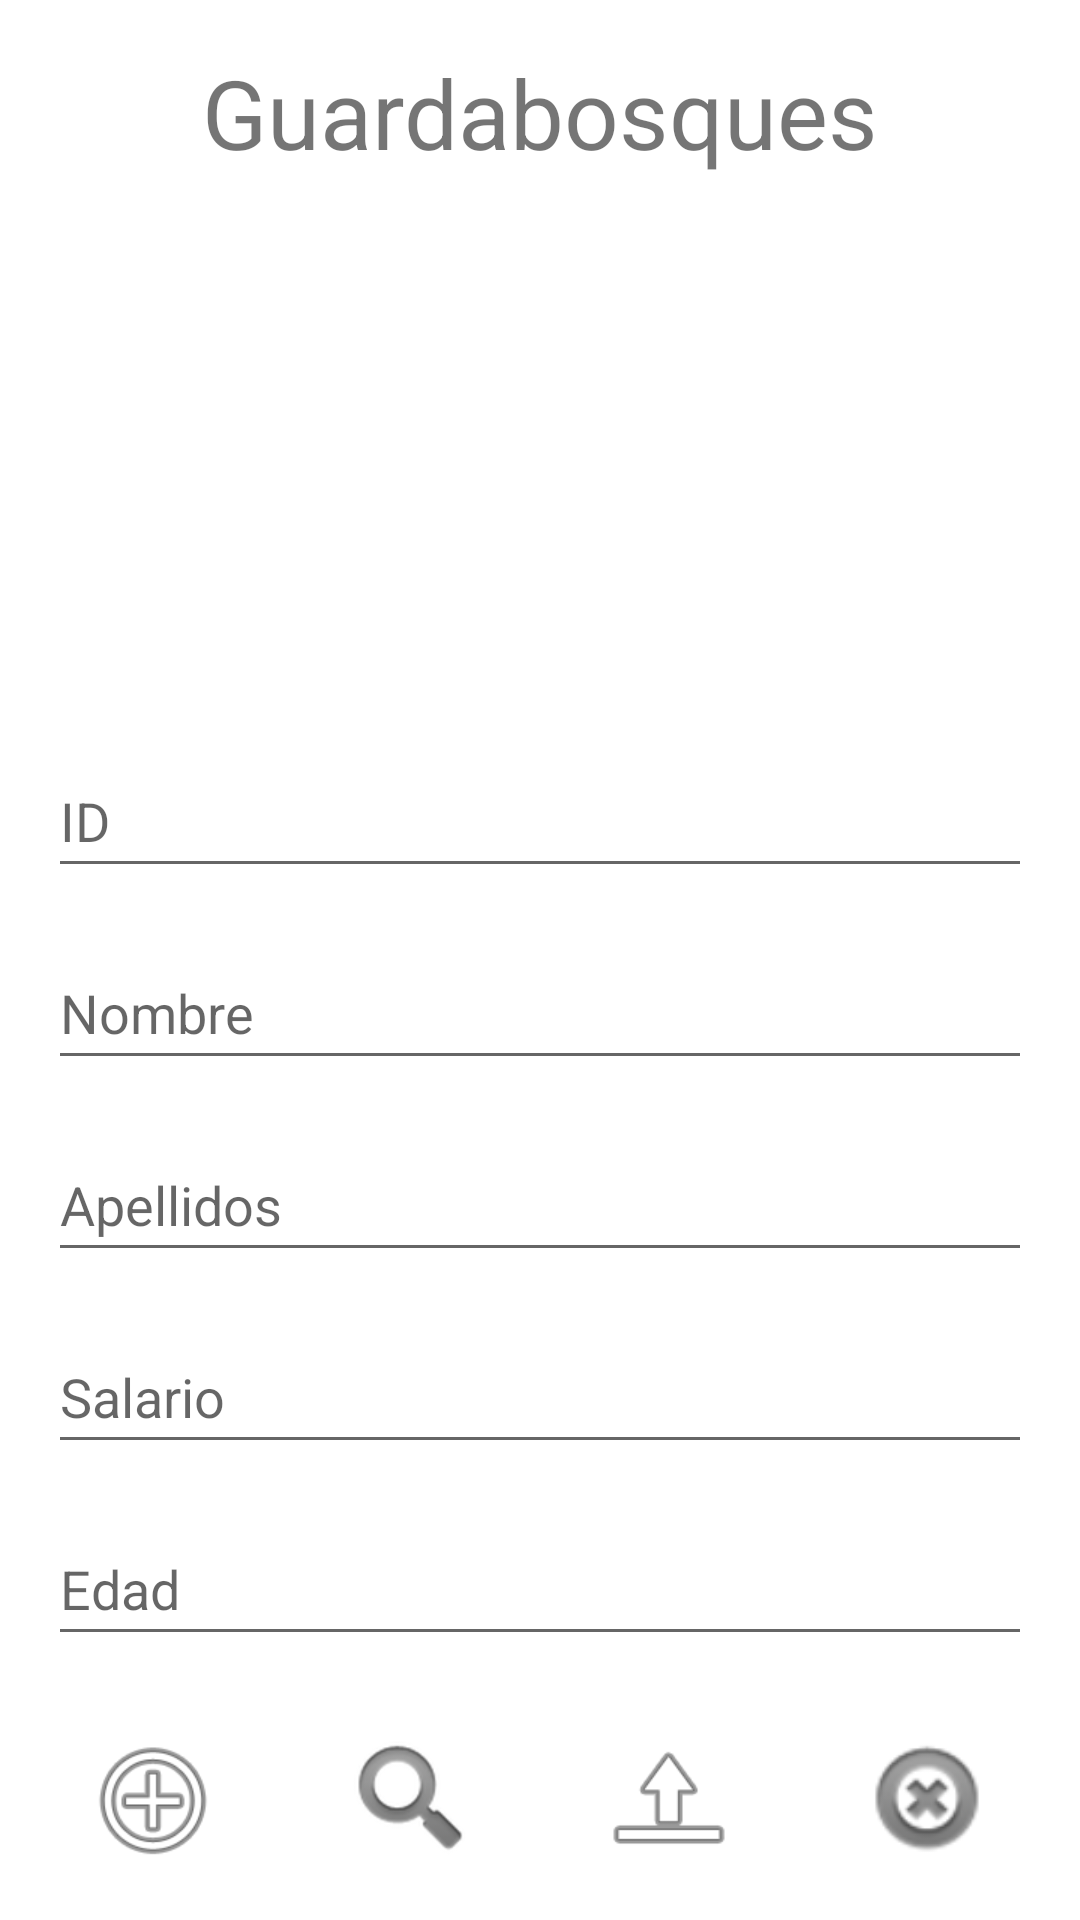

Icons on this 1080px×1920px Android screen, each with the point to tap as [x,y]:
actualizar: [669,1798]
agregar: [153,1800]
buscar: [410,1797]
eliminar: [927,1798]
